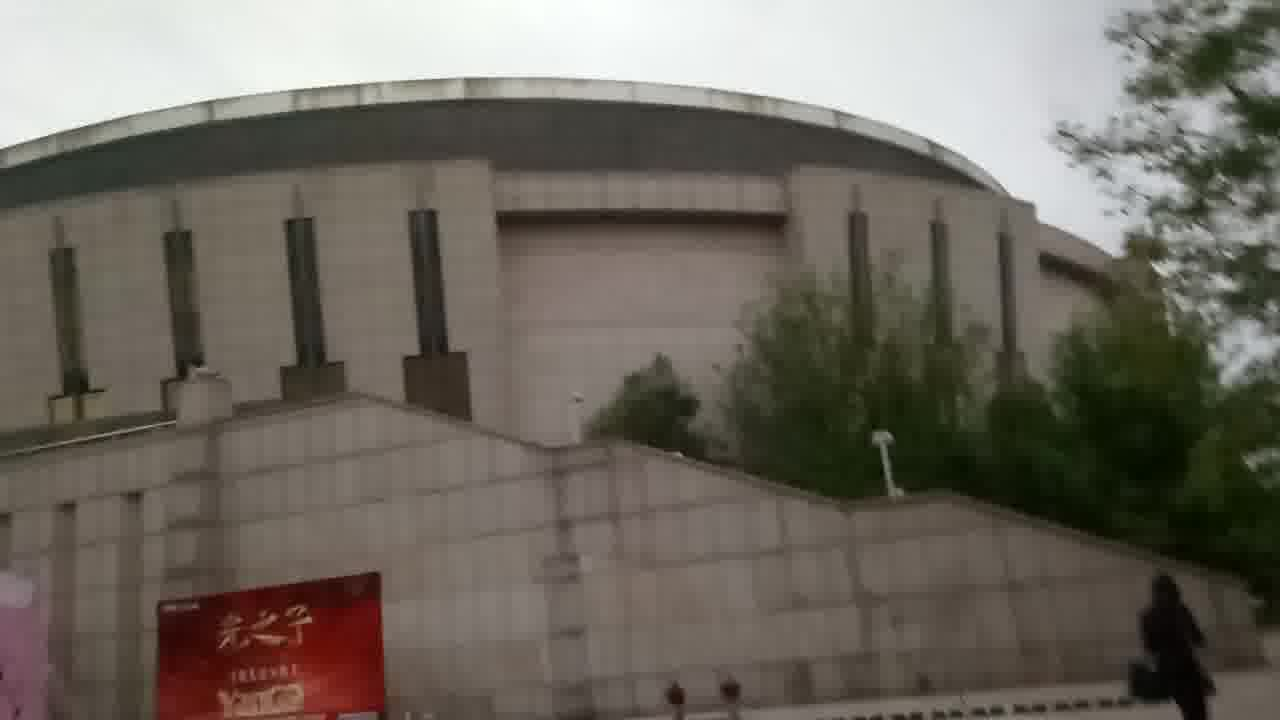zhongtiww: (1, 60, 1266, 699)
